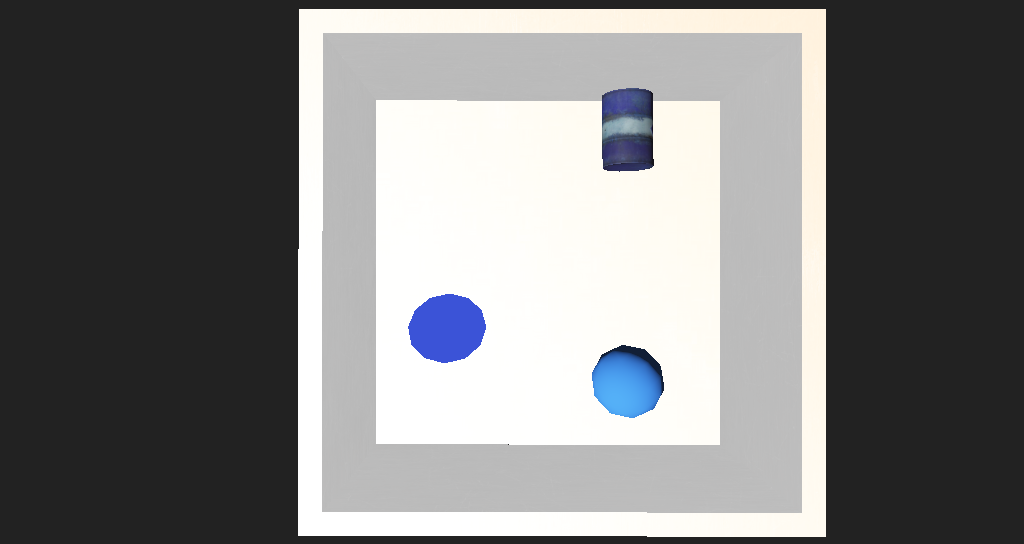cone: (556, 155, 603, 208)
cylinder: (381, 282, 455, 348)
sphere: (539, 310, 606, 358)
